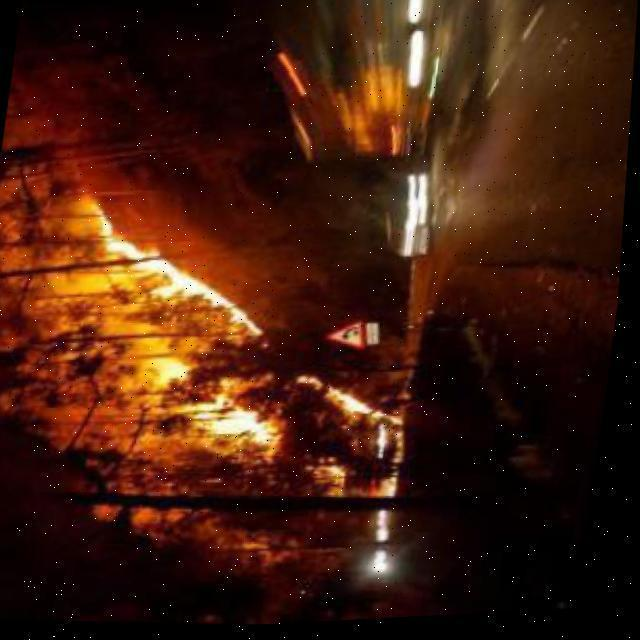fire: (73, 228, 275, 358), (110, 356, 288, 472), (298, 372, 420, 435)
